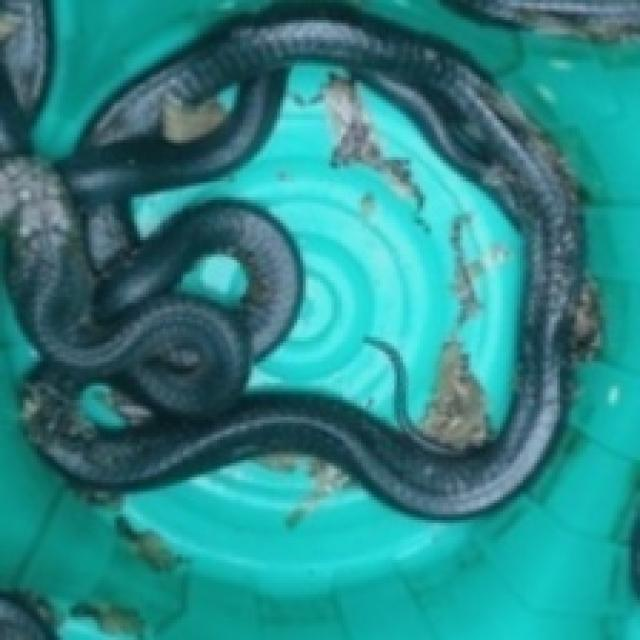king cobra: (0, 0, 580, 514)
